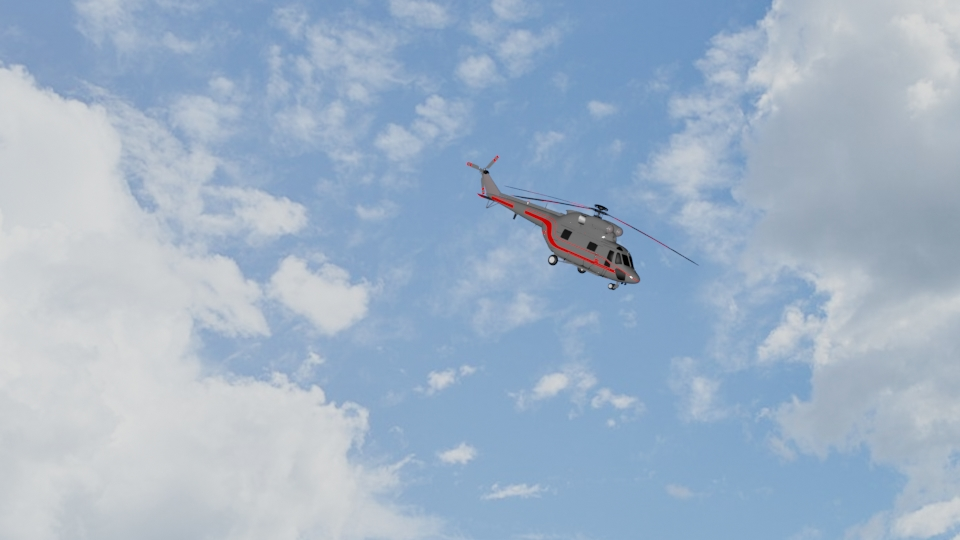heli: (464, 152, 701, 291)
